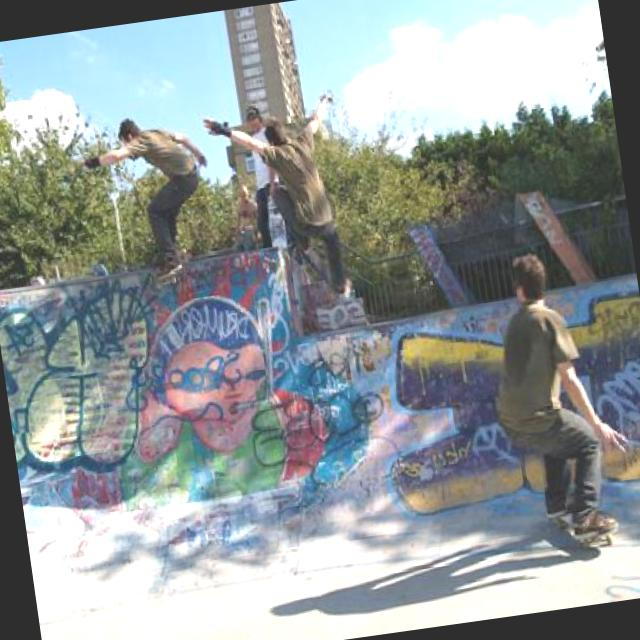Person: (478, 247, 640, 543), (201, 92, 360, 311), (79, 108, 222, 288), (238, 103, 290, 250), (222, 180, 264, 256)
